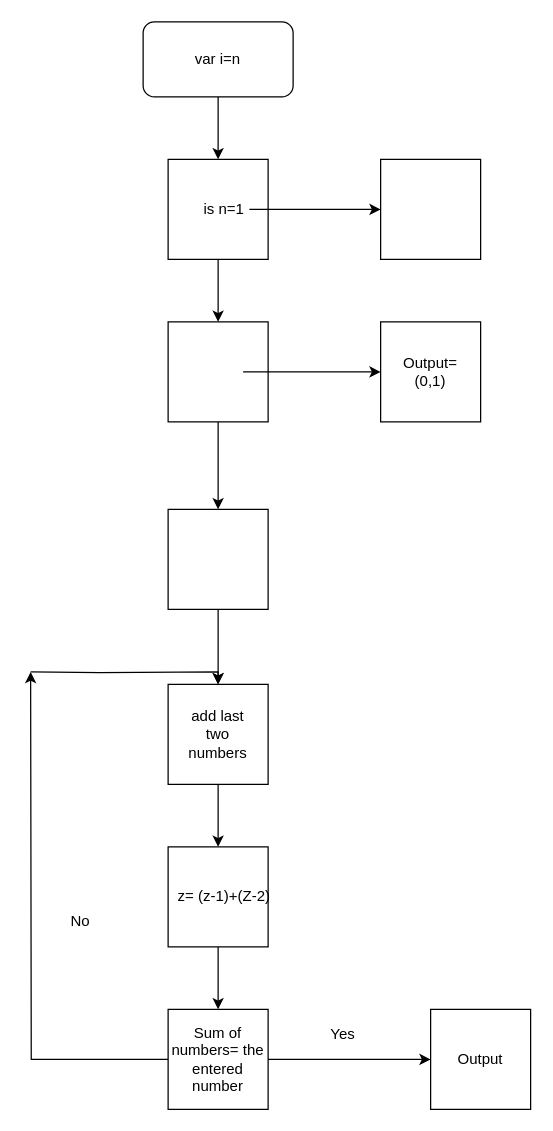
This 553x1131 diagram has some shape labels left out. Each missing label, with the centre of its shape:
"If n>2" belongs at (x=217, y=558).
"Is n=2" belongs at (x=217, y=371).
"Output=0" belongs at (x=430, y=208).
